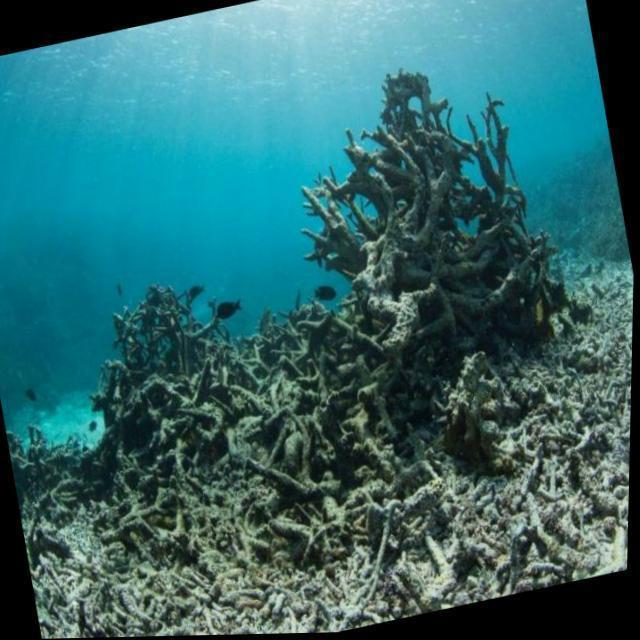Dead Coral: (64, 59, 567, 640)
